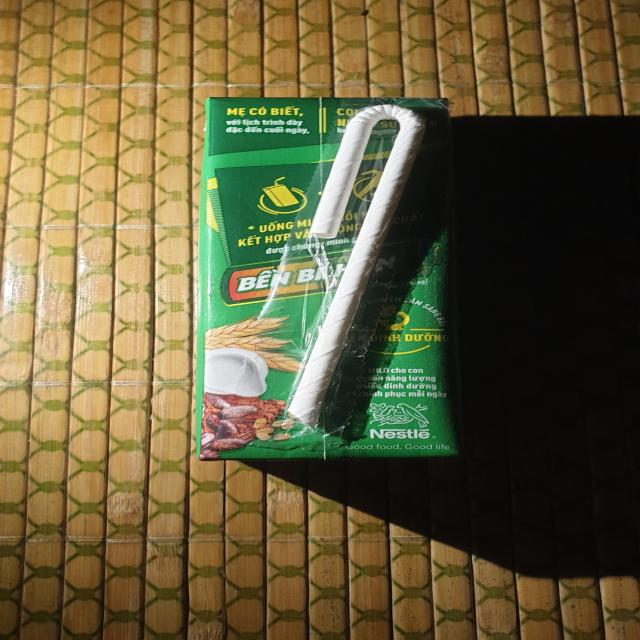Milo: (190, 92, 464, 467)
